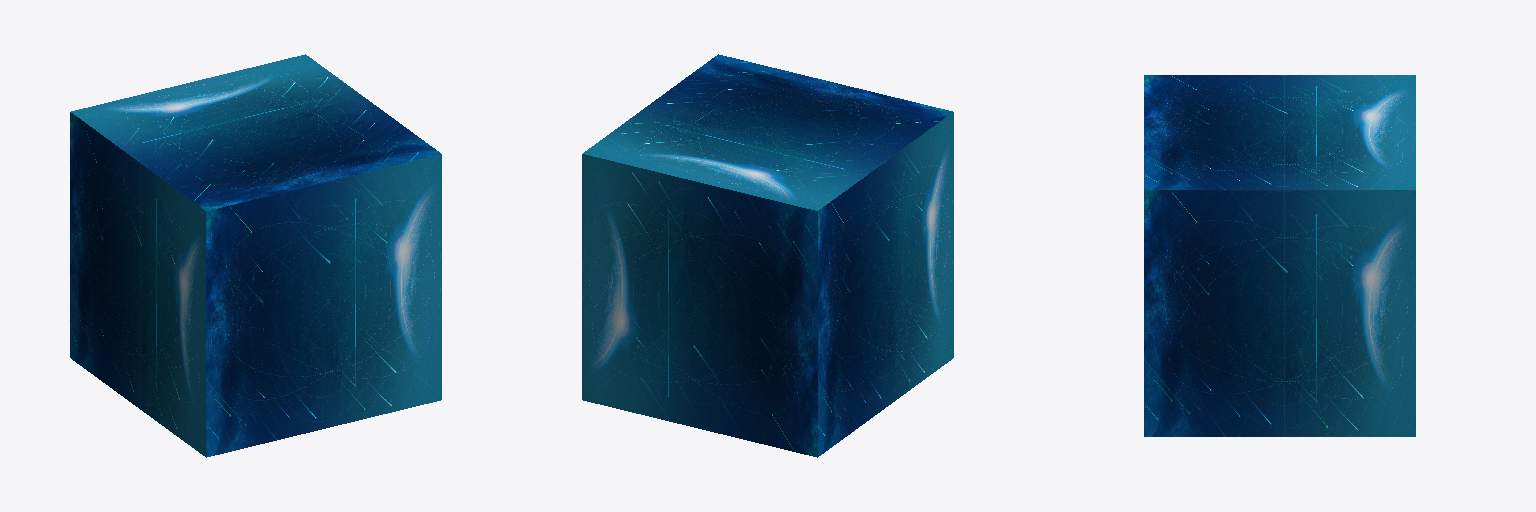
3 renders of one model, left to right at view 1: azimuth 30°, elevation 25°; view 2: azimuth 150°, elevation 25°; view 3: azimuth 270°, elevation 25°, orthographic.
Parts seen in each view (by area): view 1: Cube; view 2: Cube; view 3: Cube.
Boxes of the visible parts, x1=… form: Cube: x1=70, y1=54, x2=441, y2=457; Cube: x1=582, y1=54, x2=953, y2=457; Cube: x1=1144, y1=75, x2=1415, y2=436.
Bounding box in the file's own units: 2 × 2 × 2.
1 materials, 1 textured.